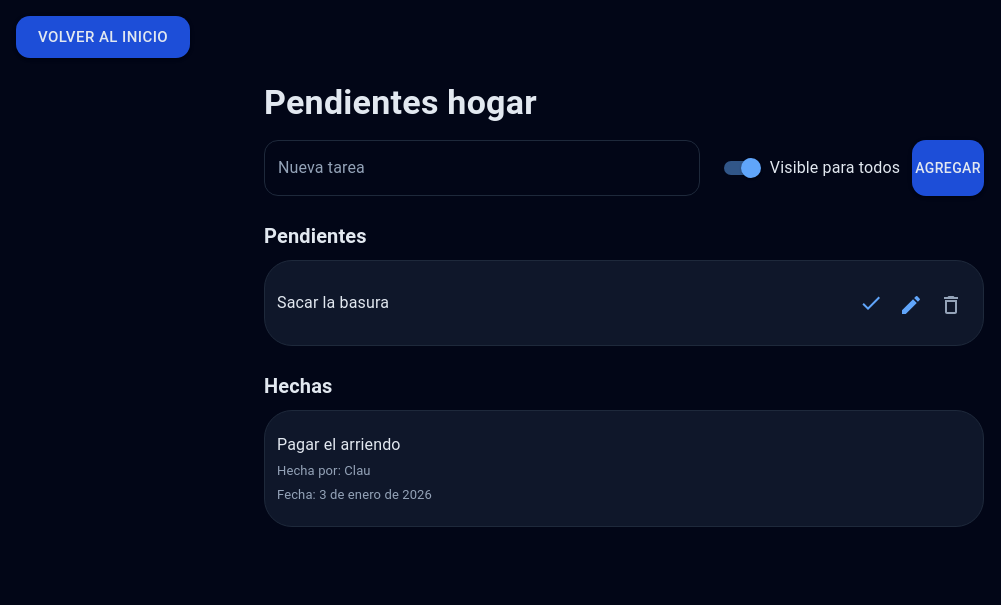
HouseholdPage › crea una tarea individual cuando el switch esta apagado
The image size is (1001, 605).
Check: the text "Sacar la basura" is shown, box [277,291,389,315]
Click the switch labelled "Visible para todos".
click(812, 168)  # box [724,158,900,178]
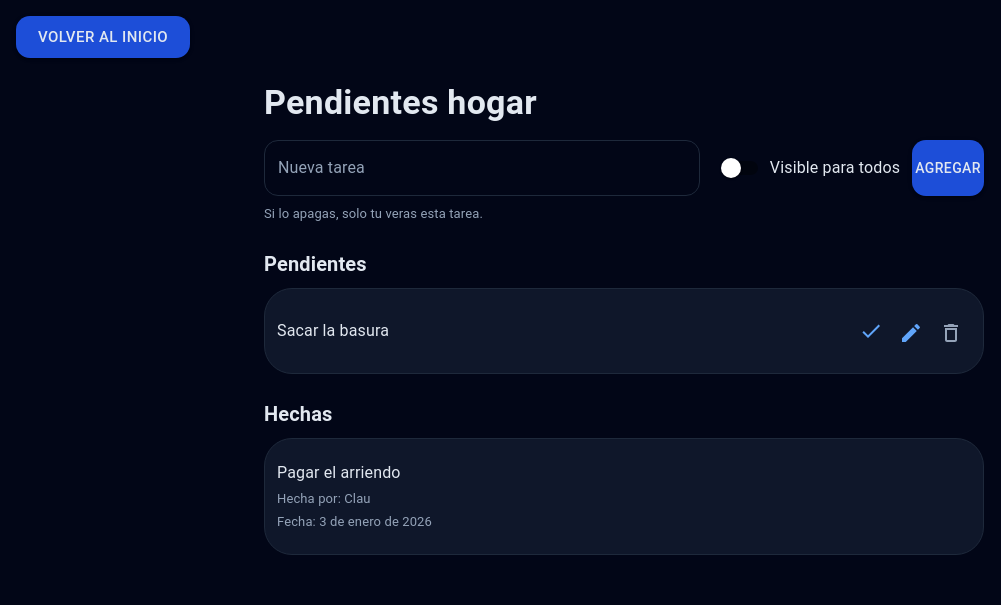
Check: the text "Si lo apagas, solo tu veras esta tarea." is shown, box [264,206,483,221]
Type "Llamar al banco" into the field labelled "Nueva tarea".
click(482, 168); type("Llamar al banco")  # box [264,140,700,196]
Then press Enter
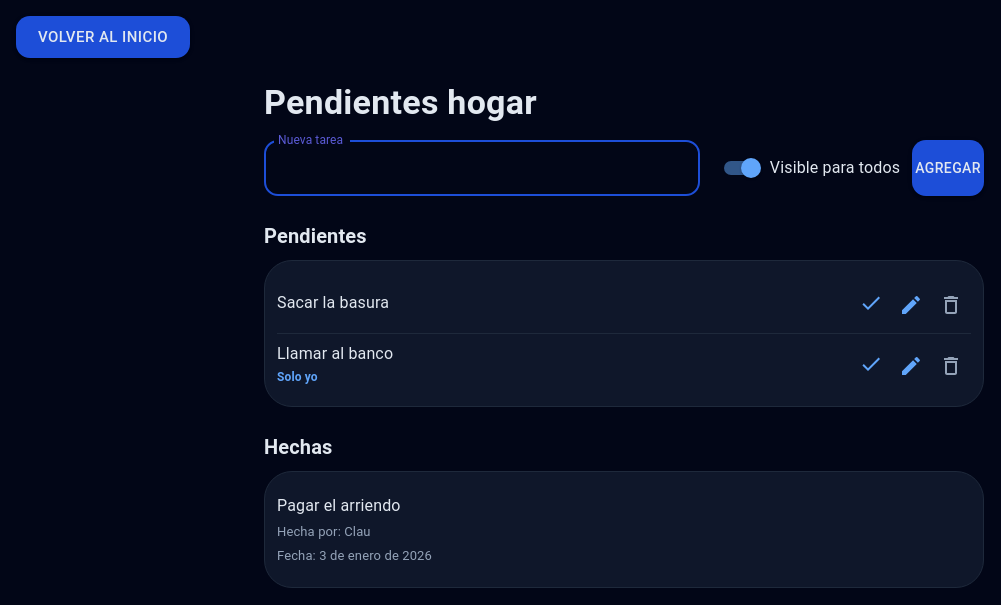
Check: the text "Solo yo" is shown, box [277,368,318,386]
